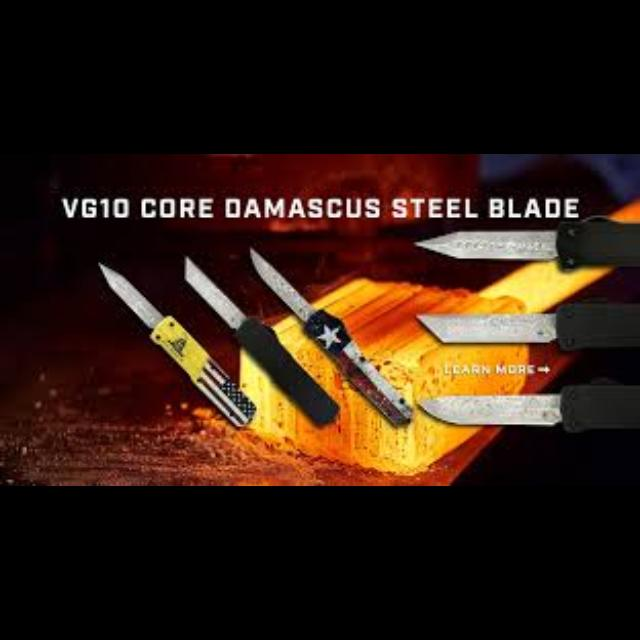knife: (248, 245, 412, 427), (184, 255, 338, 425), (96, 261, 252, 427), (412, 216, 638, 268), (417, 382, 638, 432), (414, 300, 638, 348)
